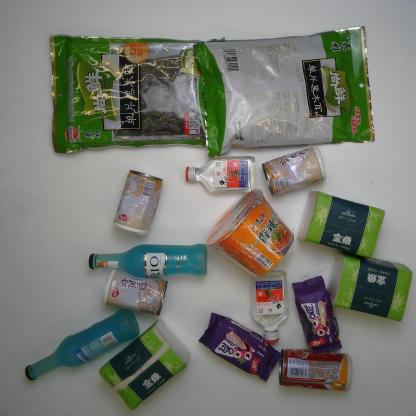Alcohol: (22, 306, 141, 381), (88, 241, 210, 279), (248, 268, 291, 345), (182, 155, 258, 194)
Canned Food: (110, 168, 167, 236), (276, 347, 356, 394), (261, 145, 329, 197), (102, 267, 168, 318)
Dessert: (196, 311, 284, 384), (290, 273, 343, 357)
Dried Food: (190, 24, 380, 159), (44, 31, 228, 154)
Instant Noodles: (204, 188, 296, 282)
Tissue: (97, 318, 191, 412), (322, 248, 413, 321), (296, 189, 388, 261)
